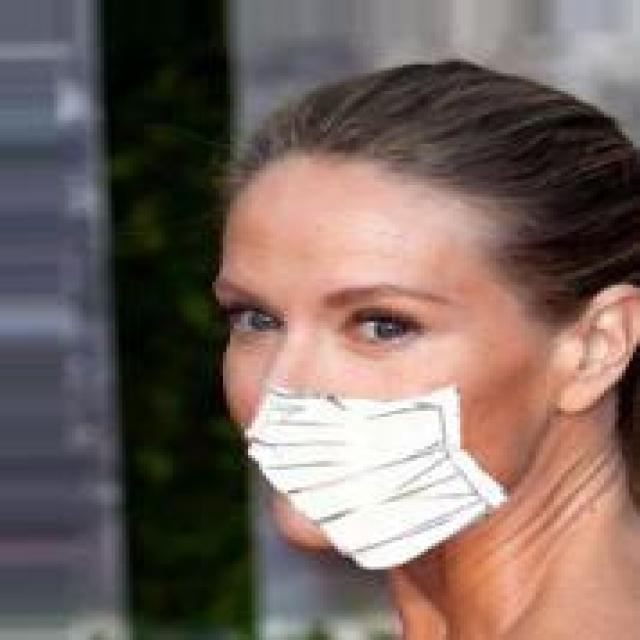mask: (169, 53, 640, 584)
